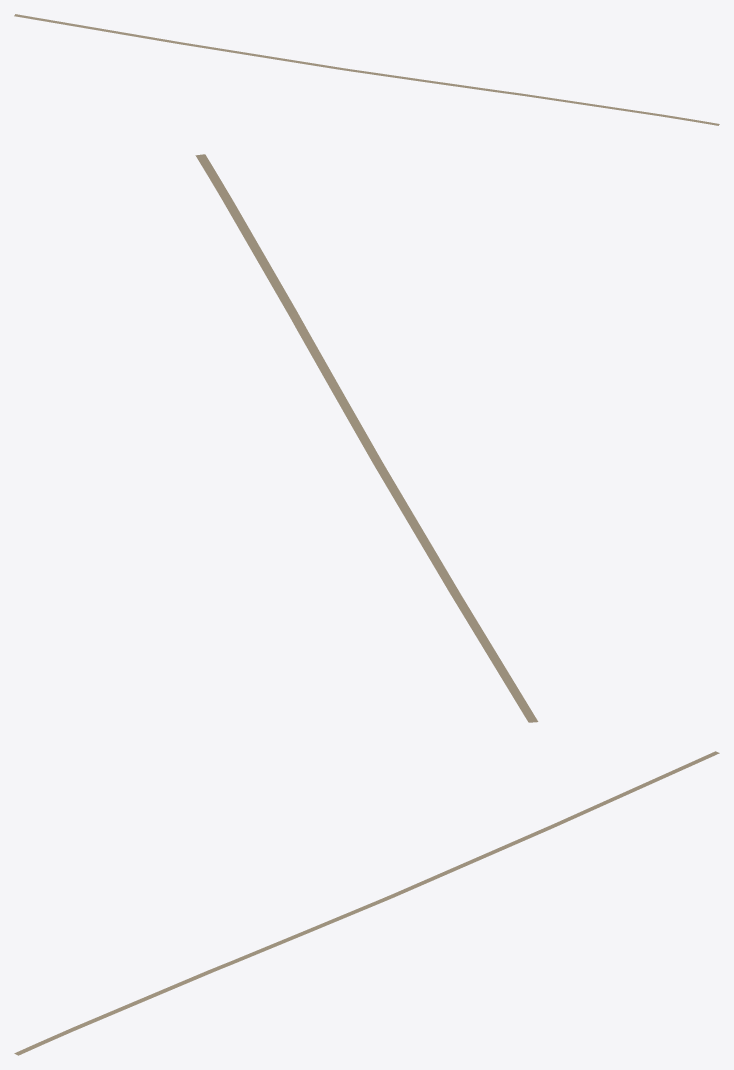
The model's file is farm_26_16_track.glb.
The picture shows the model from 3 angles, top to bottom: view 1: azimuth 30°, elevation 25°; view 2: azimuth 150°, elevation 25°; view 3: azimuth 270°, elevation 25°; orthographic projection. The views are drawn at different scales.
Visible parts, largest first — view 1: geometry_0; view 2: geometry_0; view 3: geometry_0.
Boxes of the visible parts, x1,y1,x2,y2 form: geometry_0: (14, 14, 719, 125); geometry_0: (195, 154, 538, 722); geometry_0: (14, 751, 719, 1055).
Bounding box in the file's own units: 330 × 13.96 × 352.
